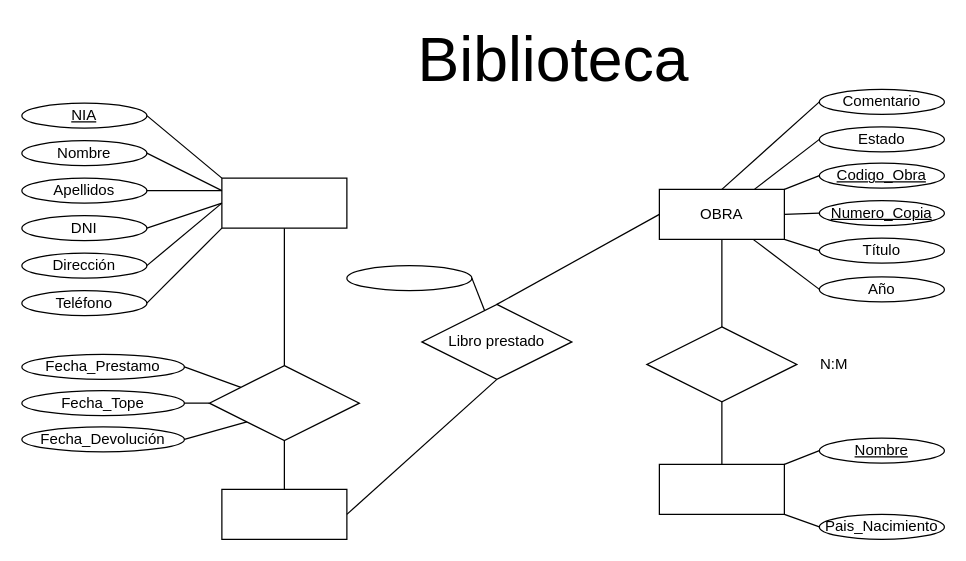
Image size: 966x561. Some labels were removed from this diagram. The shapes that lost their labels are listed below. From the top down, each one's centre as x and y in pixels, then its label:
At [284,202]: "SOCIOS".
At [409,277]: "Socio".
At [721,364]: "Escrito por".
At [283,402]: "Prestado a".
At [721,488]: "AUTOR".
At [284,513]: "PRESTAMOS".
